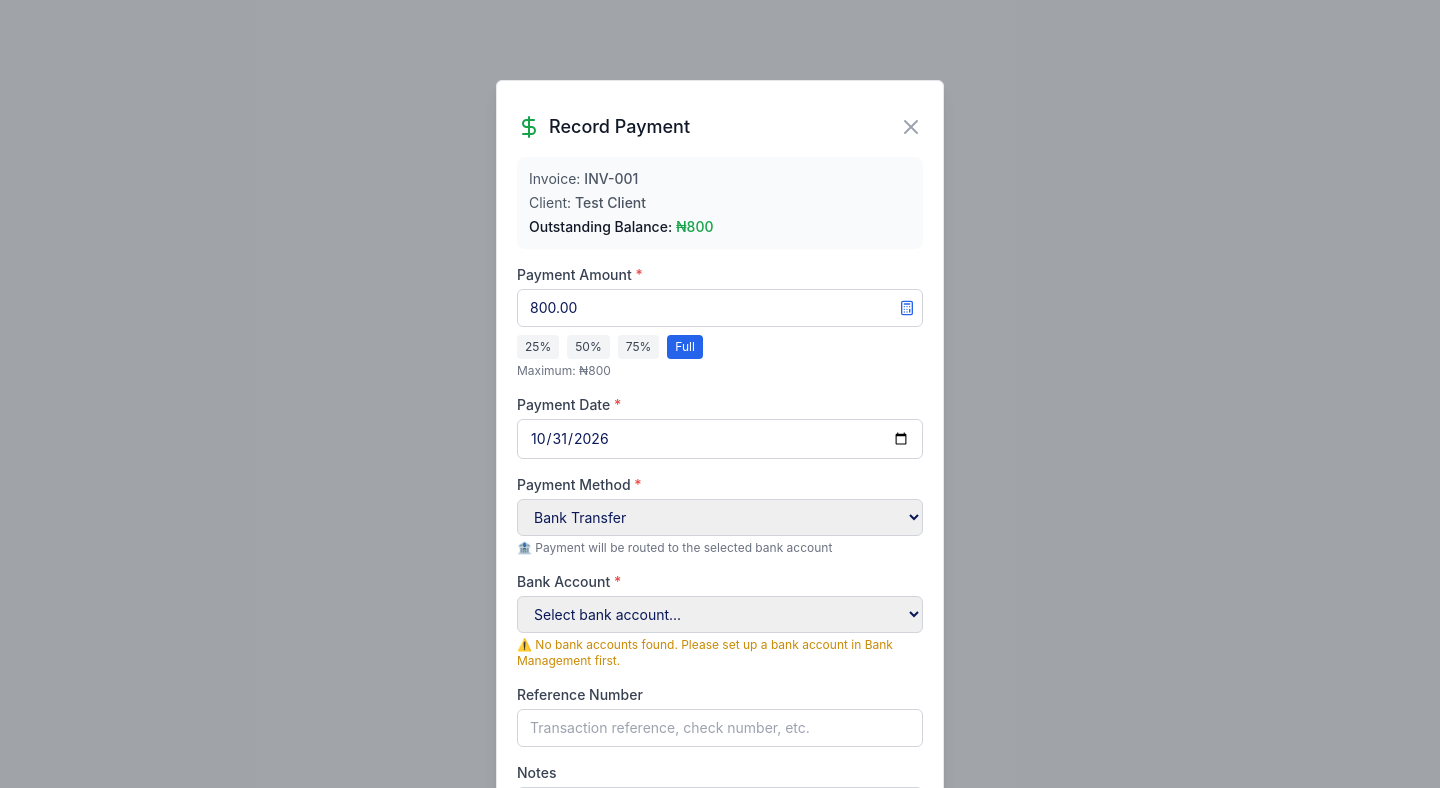
Scenario: PaymentRecordingModal › provides quick amount buttons
The image size is (1440, 788).
Note: Click 50% button
Click the button "50%": (588, 347) [567,335,610,359]
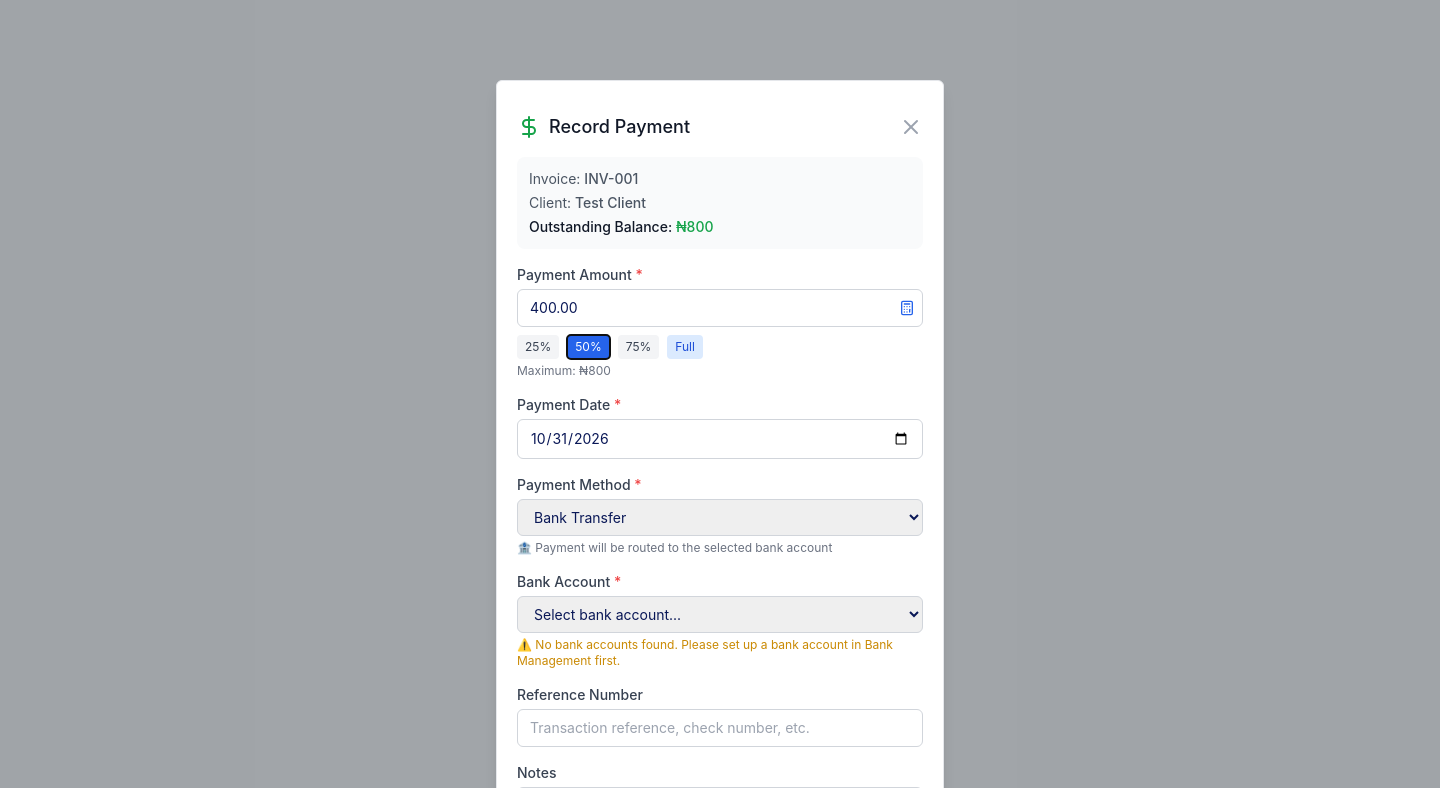
Expected: the field showing "400.00" is shown, [517,289,923,327]
